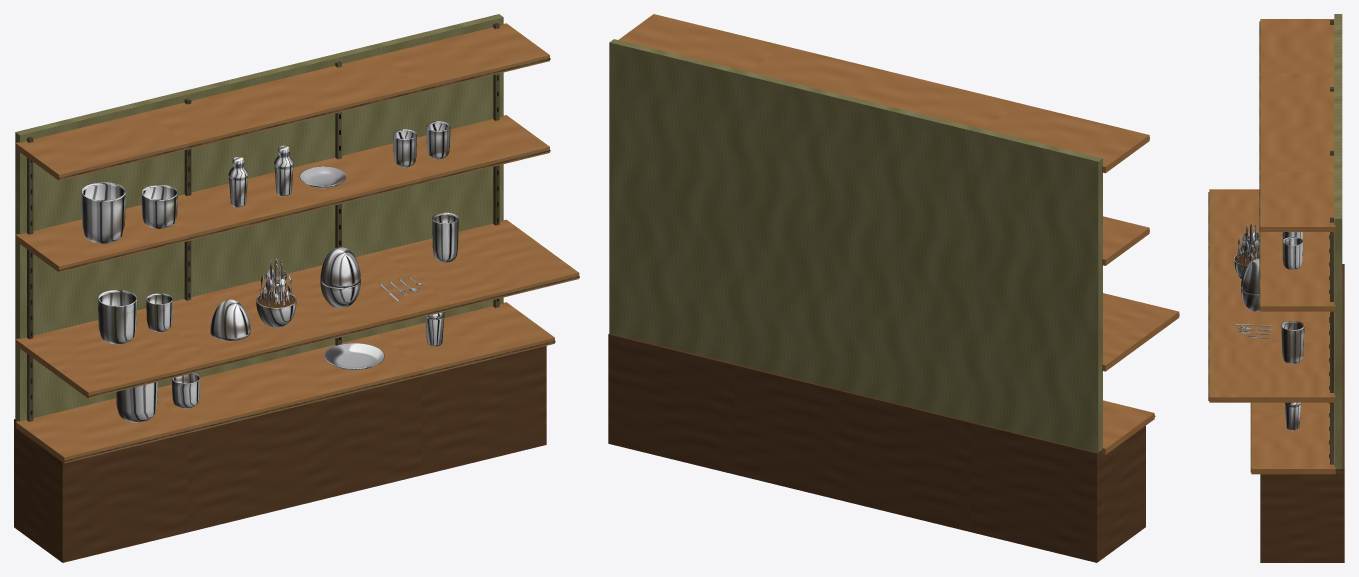
The model's file is gallery.glb.
The picture shows the model from 3 angles, left to right: view 1: azimuth 30°, elevation 25°; view 2: azimuth 150°, elevation 25°; view 3: azimuth 270°, elevation 25°; orthographic projection. The views are drawn at different scales.
Parts seen in each view (by area): view 1: ChristofleFurniture, ChristofleMoodSilver; view 2: ChristofleFurniture; view 3: ChristofleFurniture, ChristofleMoodSilver.
Boxes of the visible parts, box(x1,y1,x2,y2) form: ChristofleFurniture: box(14, 14, 579, 562); ChristofleMoodSilver: box(81, 121, 458, 422); ChristofleFurniture: box(608, 14, 1179, 562); ChristofleFurniture: box(1208, 14, 1344, 562); ChristofleMoodSilver: box(1232, 223, 1304, 430).
Bounding box in the file's own units: 2.8 × 2.16 × 0.775.
Materials: 2 (2 with a texture image).
